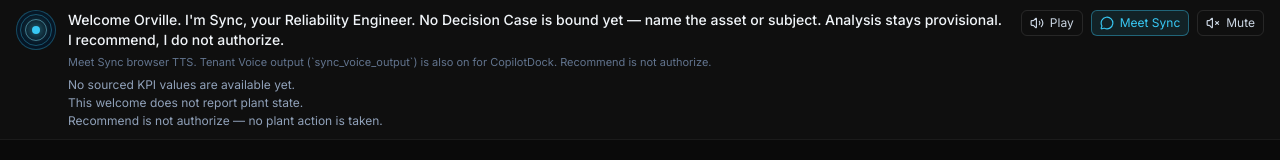
PresenceWelcome › persists mute from the banner control
The width and height of the screenshot is (1280, 160).
Click the button with aria-label "mute welcome" at (1231, 23), box [1197,10,1264,36]
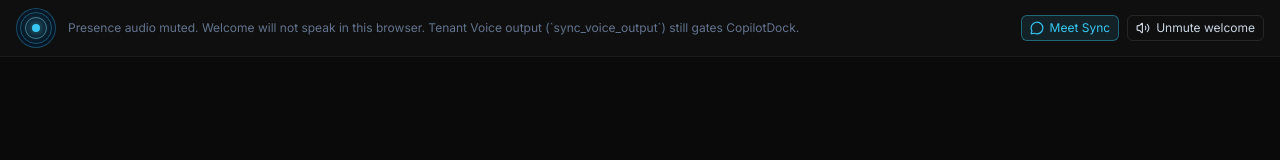
Expected: the element with test id "presence-welcome" has attribute data-presence-muted="true", [0,0,1279,57]
